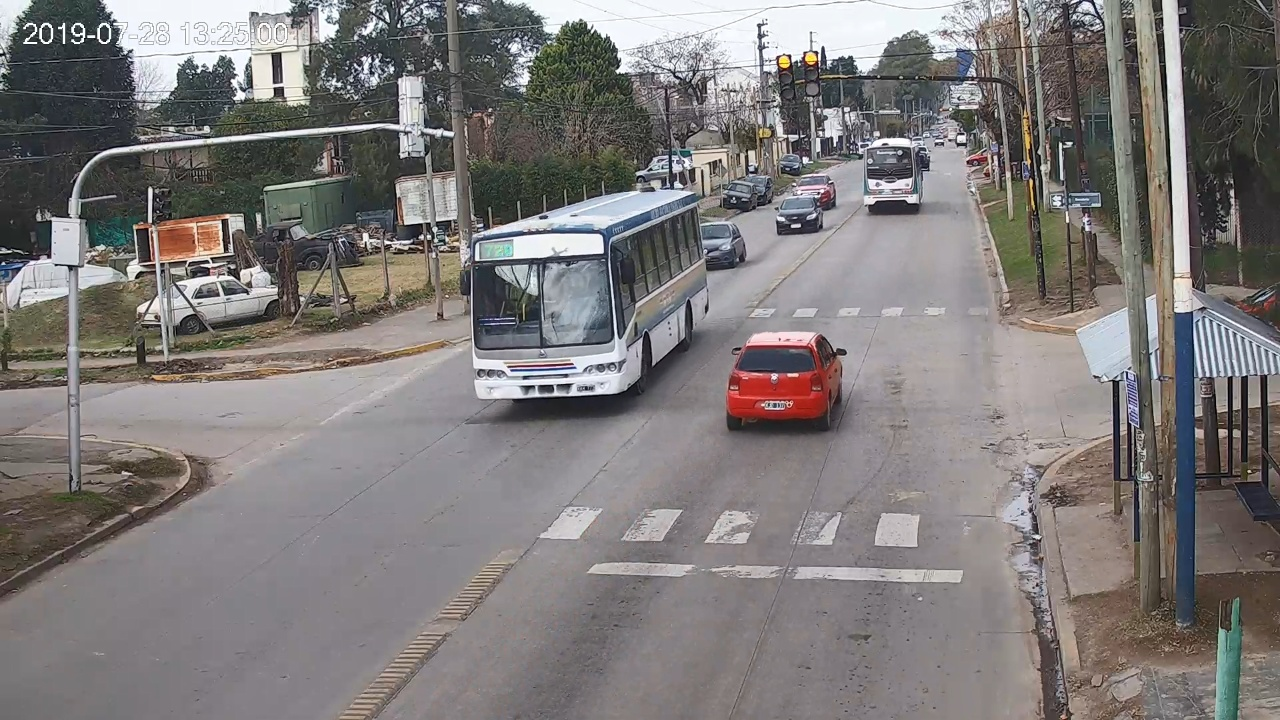bus: (863, 138, 923, 211)
car: (727, 332, 847, 430)
front bus: (461, 189, 709, 403)
traffic light: (778, 54, 797, 101), (803, 51, 820, 97)
